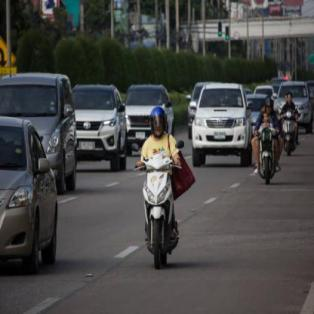Motocicleta: (133, 150, 184, 267)
